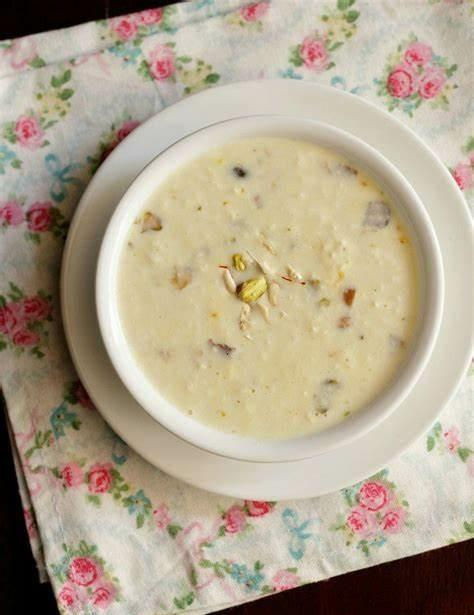Kheer: (117, 138, 418, 445)
